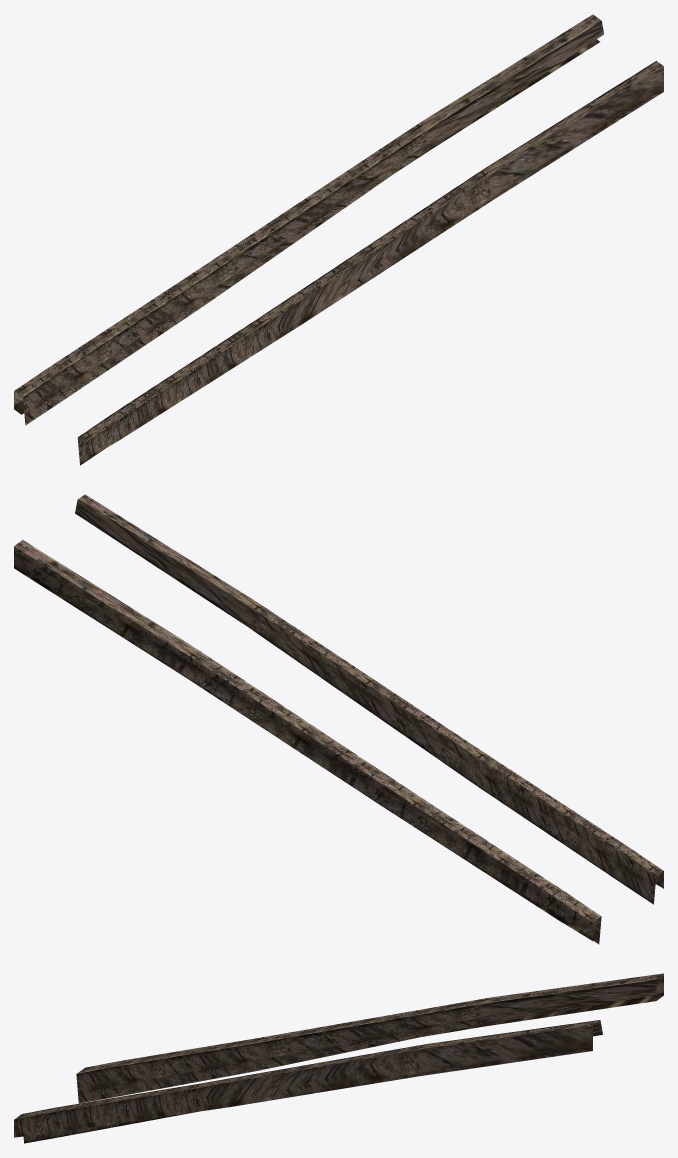
3 views of the same model, one above another, from view 1: azimuth 30°, elevation 25°; view 2: azimuth 150°, elevation 25°; view 3: azimuth 330°, elevation 25° (orthographic).
Visible parts, largest first — view 1: lt02; view 2: lt02; view 3: lt02.
Boxes of the visible parts, x1,y1,x2,y2 form: lt02: (14,14,663,465); lt02: (14,494,663,944); lt02: (14,973,663,1143).
Size of the model in its own units: 515 by 224 by 109.
